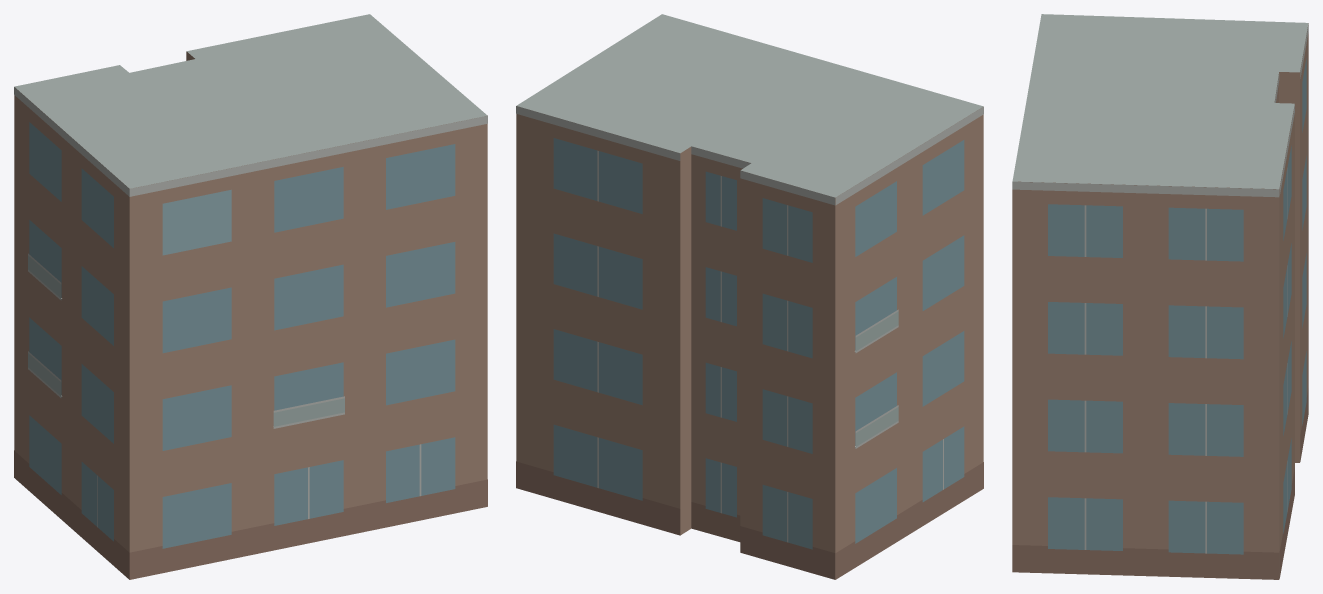
File: survey-upis-32542995.glb
3 renders of one model, left to right at view 1: azimuth 30°, elevation 25°; view 2: azimuth 150°, elevation 25°; view 3: azimuth 270°, elevation 25°, orthographic. The views are drawn at different scales.
Parts seen in each view (by area): view 1: survey-upis-32542995.tmp; view 2: survey-upis-32542995.tmp; view 3: survey-upis-32542995.tmp.
Boxes of the visible parts, x1,y1,x2,y2 form: survey-upis-32542995.tmp: (14,14,487,579); survey-upis-32542995.tmp: (516,14,983,579); survey-upis-32542995.tmp: (1012,14,1308,579).
Size of the model in its own units: 11.36 by 11.8 by 8.12.
